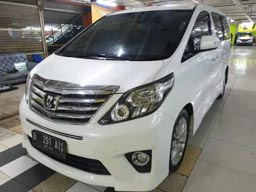plat: (33, 132, 66, 160)
